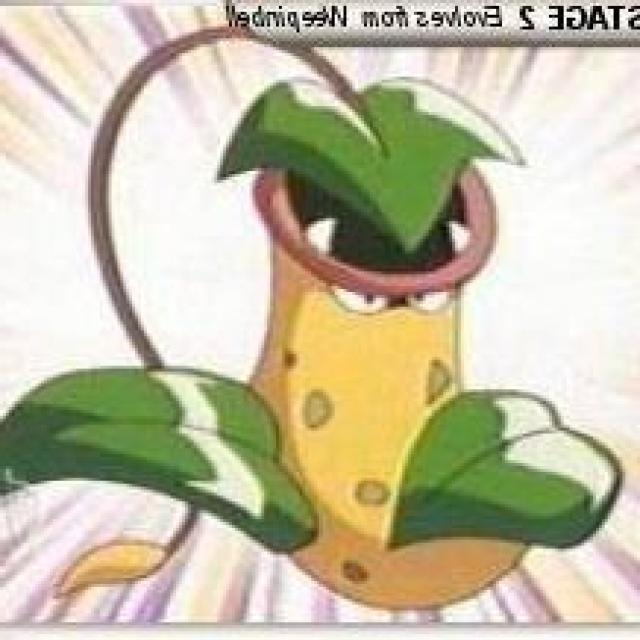Victreebel: (208, 69, 553, 605)
